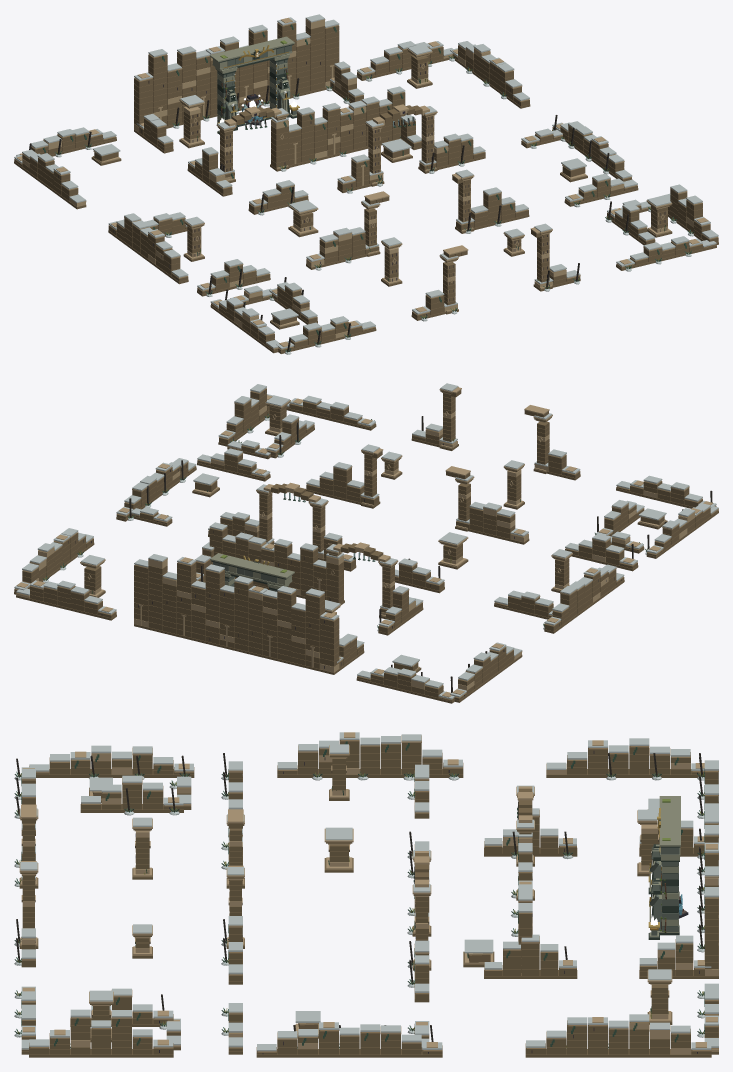
File: dungeon-portals.glb
3 views of the same model, one above another, from view 1: azimuth 30°, elevation 25°; view 2: azimuth 150°, elevation 25°; view 3: azimuth 270°, elevation 25° (orthographic). The views are drawn at different scales.
Visible parts, largest first — view 1: approach-cindercrypt-stone, approach-frosthollow-foliage, portal-stone, approach-nightroot-foliage; view 2: approach-cindercrypt-stone, approach-frosthollow-foliage, portal-stone, approach-nightroot-foliage; view 3: approach-cindercrypt-stone, approach-frosthollow-foliage, approach-nightroot-foliage, portal-stone.
Boxes of the visible parts, bbox=[...] form: approach-cindercrypt-stone: bbox=[14, 18, 718, 353]; approach-frosthollow-foliage: bbox=[14, 14, 718, 354]; portal-stone: bbox=[210, 36, 299, 134]; approach-nightroot-foliage: bbox=[29, 24, 693, 352]; approach-cindercrypt-stone: bbox=[14, 387, 718, 703]; approach-frosthollow-foliage: bbox=[14, 383, 718, 699]; portal-stone: bbox=[210, 553, 294, 591]; approach-nightroot-foliage: bbox=[29, 413, 712, 692]; approach-cindercrypt-stone: bbox=[19, 732, 718, 1057]; approach-frosthollow-foliage: bbox=[14, 732, 718, 1051]; approach-nightroot-foliage: bbox=[14, 741, 704, 1047]; portal-stone: bbox=[648, 796, 680, 939].
Bounding box in the file's own units: 65.43 × 10.73 × 68.14.
